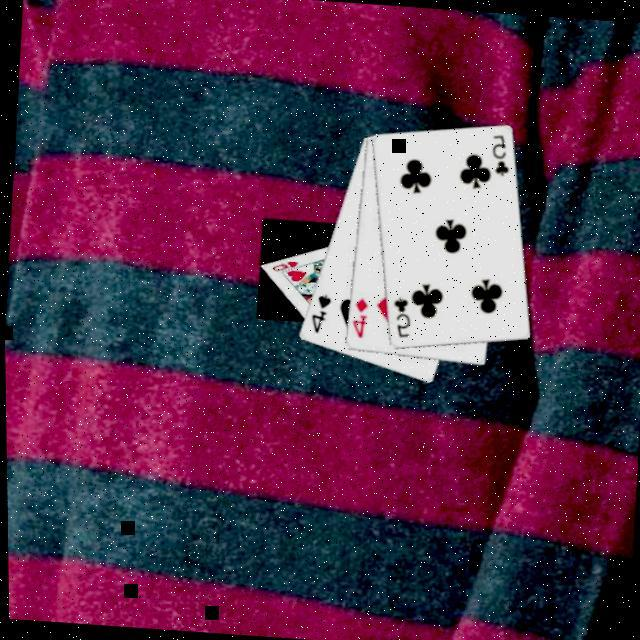4D: (347, 293, 371, 340)
4S: (305, 289, 335, 335)
5C: (387, 292, 415, 340), (487, 129, 515, 177)
